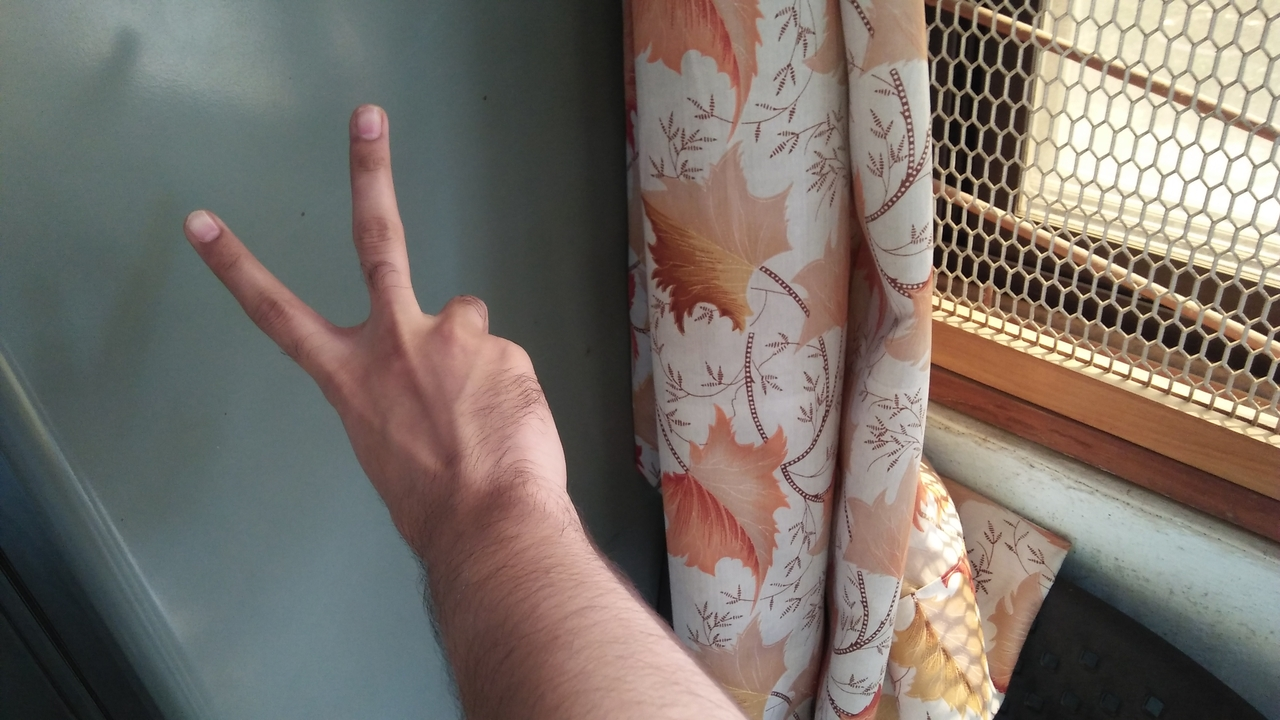fingertip: (170, 198, 228, 254), (336, 96, 394, 148)
